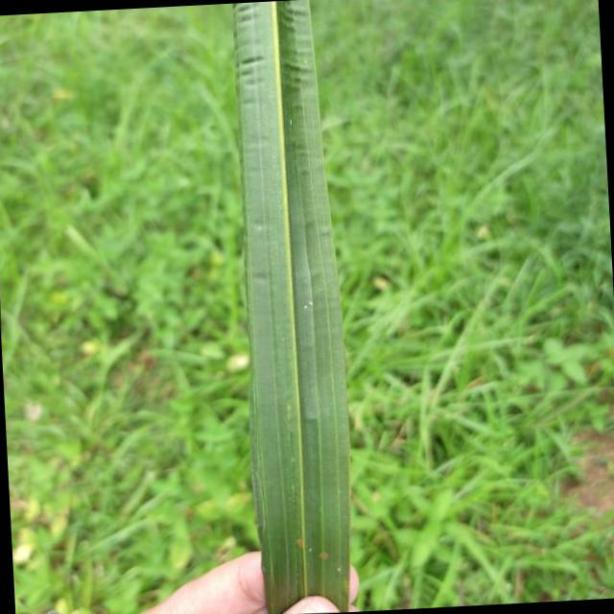Boron: (236, 0, 352, 614)
